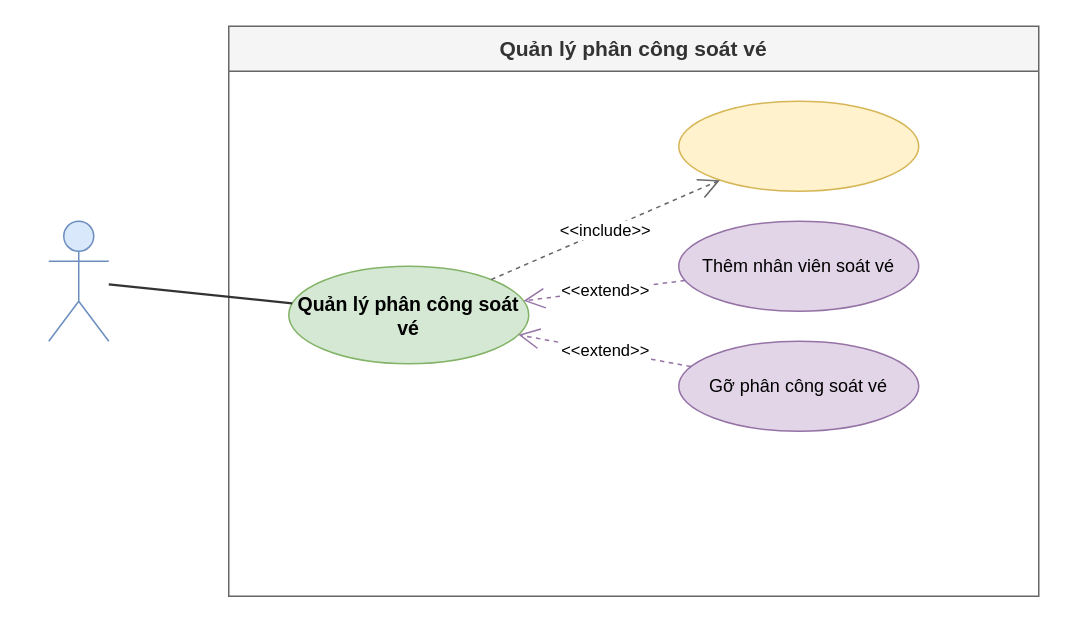
Image size: 1065x623. Some labels were removed from this diagram. The shapes that lost their labels are listed below. From the top down, each one's centre as x and y in pixels, then its label:
At (x=798, y=145): "Xem danh sách nhân viên Staff".
At (x=78, y=280): "Ban tổ chức".
